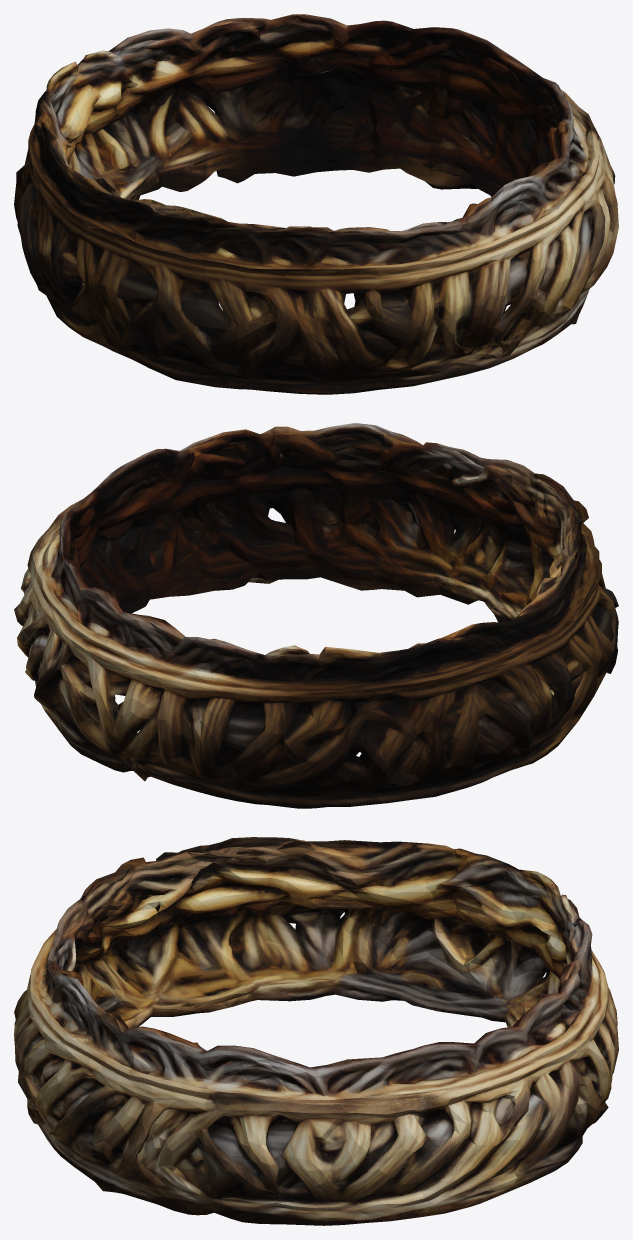
Rendered from hemp-woven-bracelet-organic hi-res.jpeg.glb.
3 renders of one model, top to bottom at view 1: azimuth 30°, elevation 25°; view 2: azimuth 150°, elevation 25°; view 3: azimuth 270°, elevation 25°, orthographic.
Visible parts, largest first — view 1: world; view 2: world; view 3: world.
Part boxes in pixels (x1,y1,x2,y2): world: (14,14,618,394); world: (14,423,618,808); world: (14,837,618,1225).
Size of the model in its own units: 0.9976 by 0.313 by 0.9991.
Materials: 1 (1 with a texture image).
